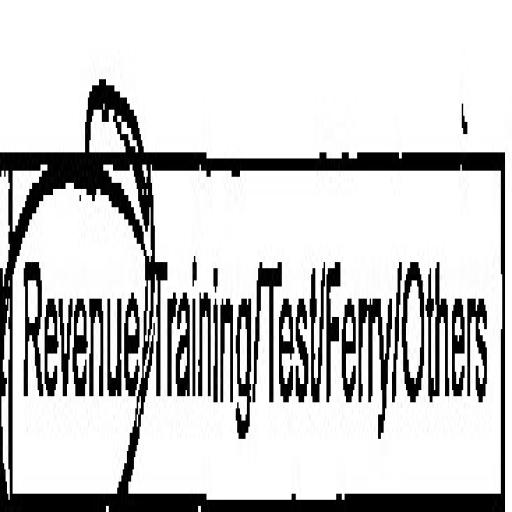check: (4, 0, 148, 512)
